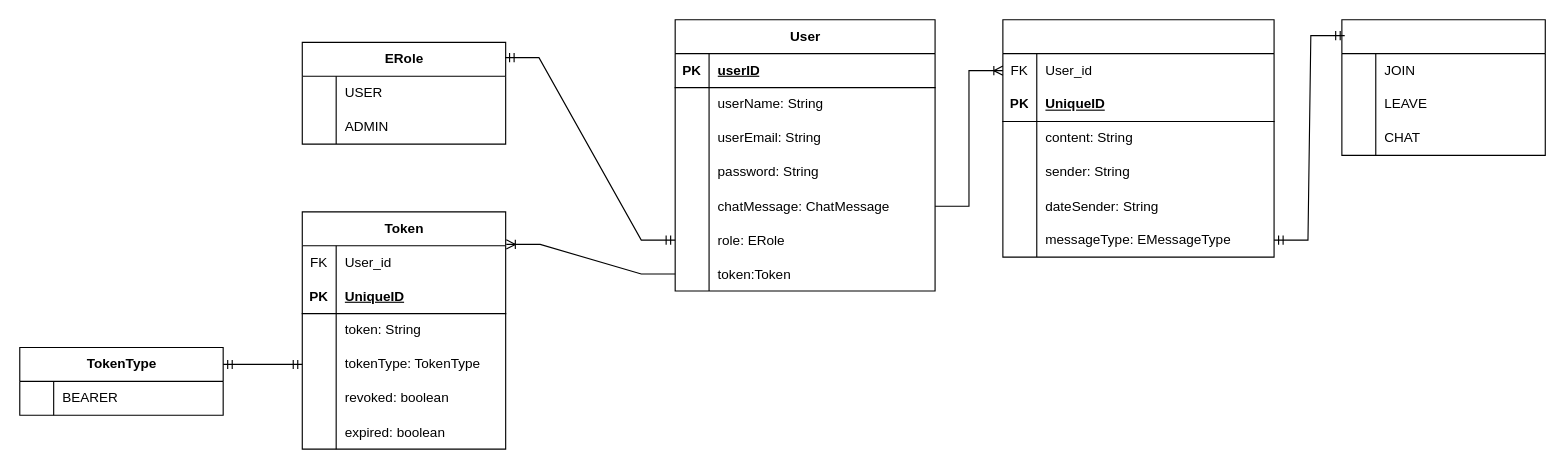
The diagram is 1565 pixels wide and 469 high, and some of its shapes have lost their labels. Here are the shapes that lost their labels. From the top down, the box of each, then its label:
(1341, 19, 1545, 155): EMessageType
(1002, 19, 1274, 257): ChatMessage
